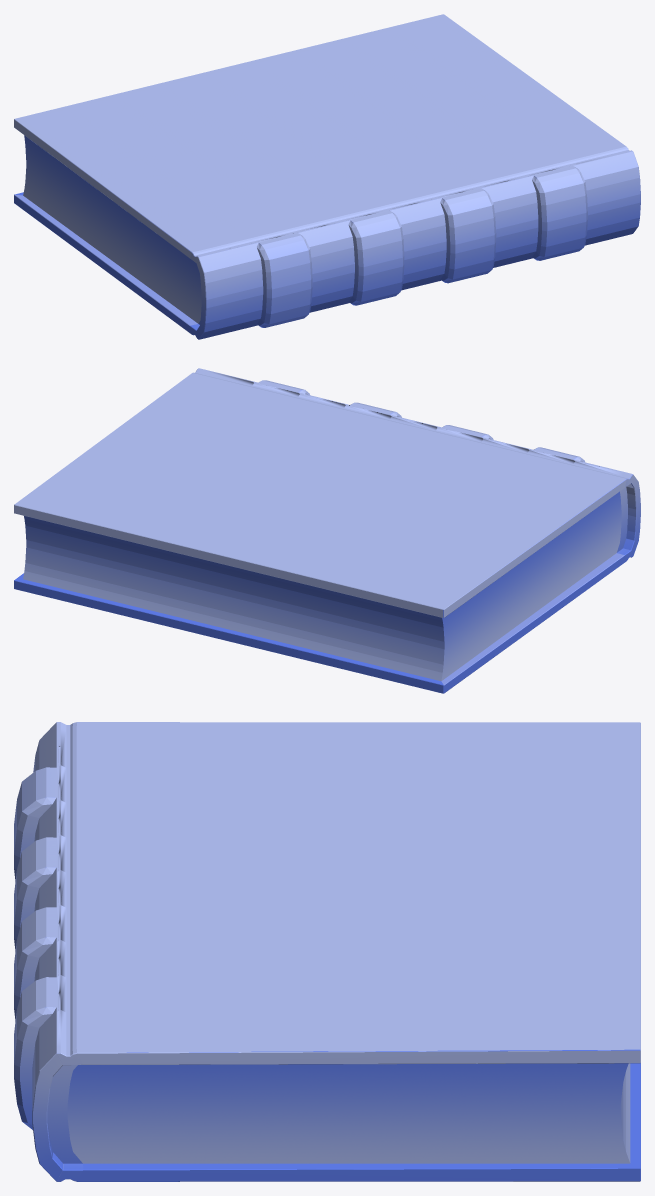
File: Book 1.fbx
3 views of the same model, one above another, from view 1: azimuth 30°, elevation 25°; view 2: azimuth 150°, elevation 25°; view 3: azimuth 270°, elevation 25° (orthographic). The views are drawn at different scales.
Parts seen in each view (by area): view 1: TedarikBook.020; view 2: TedarikBook.020; view 3: TedarikBook.020.
Boxes of the visible parts, x1,y1,x2,y2 form: TedarikBook.020: (14, 14, 640, 339); TedarikBook.020: (14, 368, 640, 693); TedarikBook.020: (14, 722, 640, 1181).
Size of the model in its own units: 0.4094 by 0.0759 by 0.3273.
